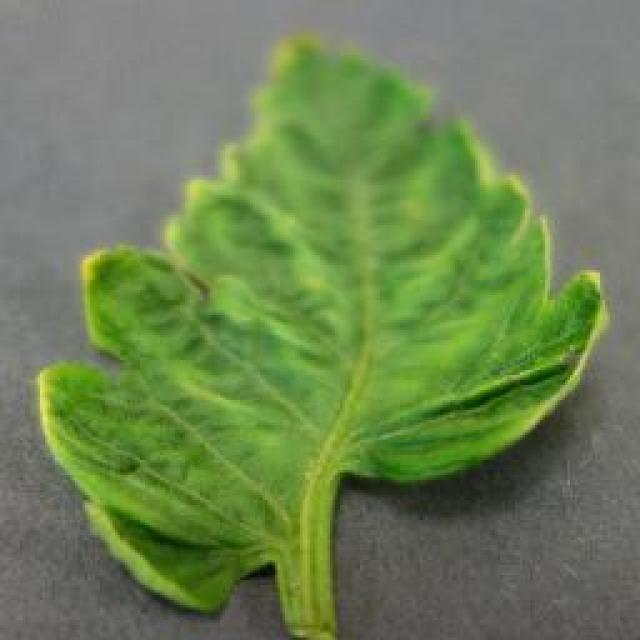Tomato yellow virus leaf: (36, 32, 604, 618)
